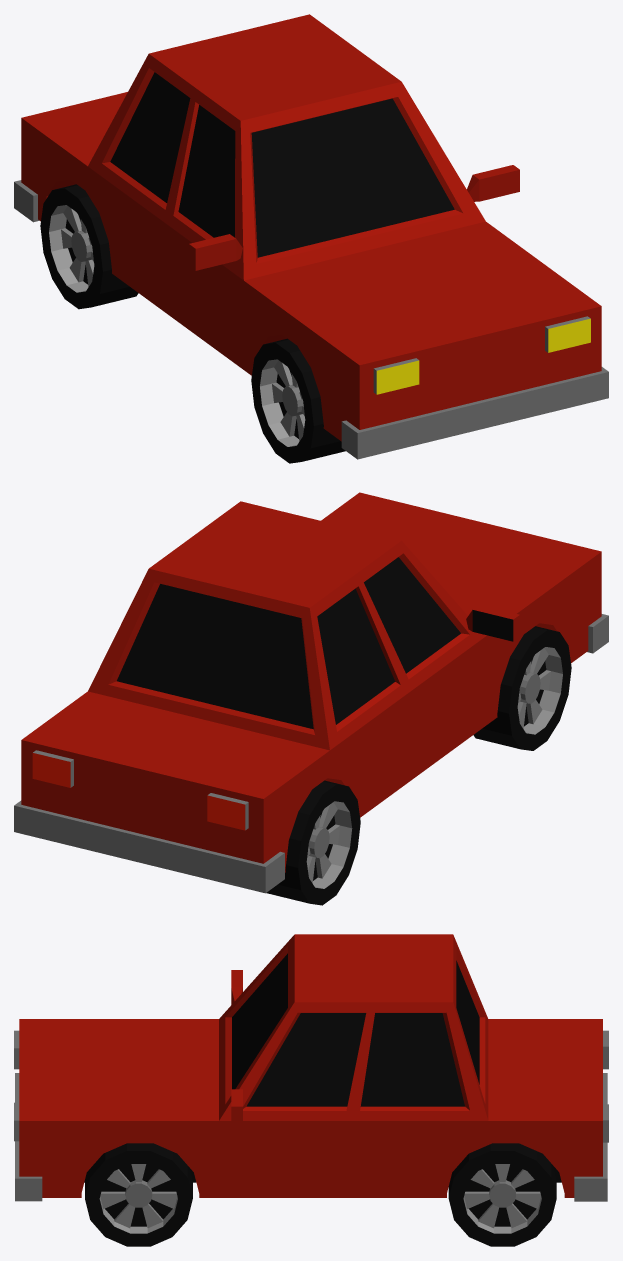
The model's file is carred.fbx.
3 views of the same model, one above another, from view 1: azimuth 30°, elevation 25°; view 2: azimuth 150°, elevation 25°; view 3: azimuth 270°, elevation 25° (orthographic). The views are drawn at different scales.
Parts seen in each view (by area): view 1: Cube, Cube.004, Cube.005; view 2: Cube, Cube.004, Cube.005; view 3: Cube, Cube.002, Cube.003.
Boxes of the visible parts, box(x1,y1,x2,y2) form: Cube: box(14, 14, 608, 459); Cube.004: box(251, 338, 345, 463); Cube.005: box(40, 184, 138, 309); Cube: box(14, 492, 608, 893); Cube.004: box(473, 626, 571, 750); Cube.005: box(266, 780, 360, 905); Cube: box(14, 934, 608, 1201); Cube.002: box(85, 1143, 192, 1246); Cube.003: box(448, 1143, 556, 1246).
Bounding box in the file's own units: 329 × 252 × 606.
1 material, 1 textured.
